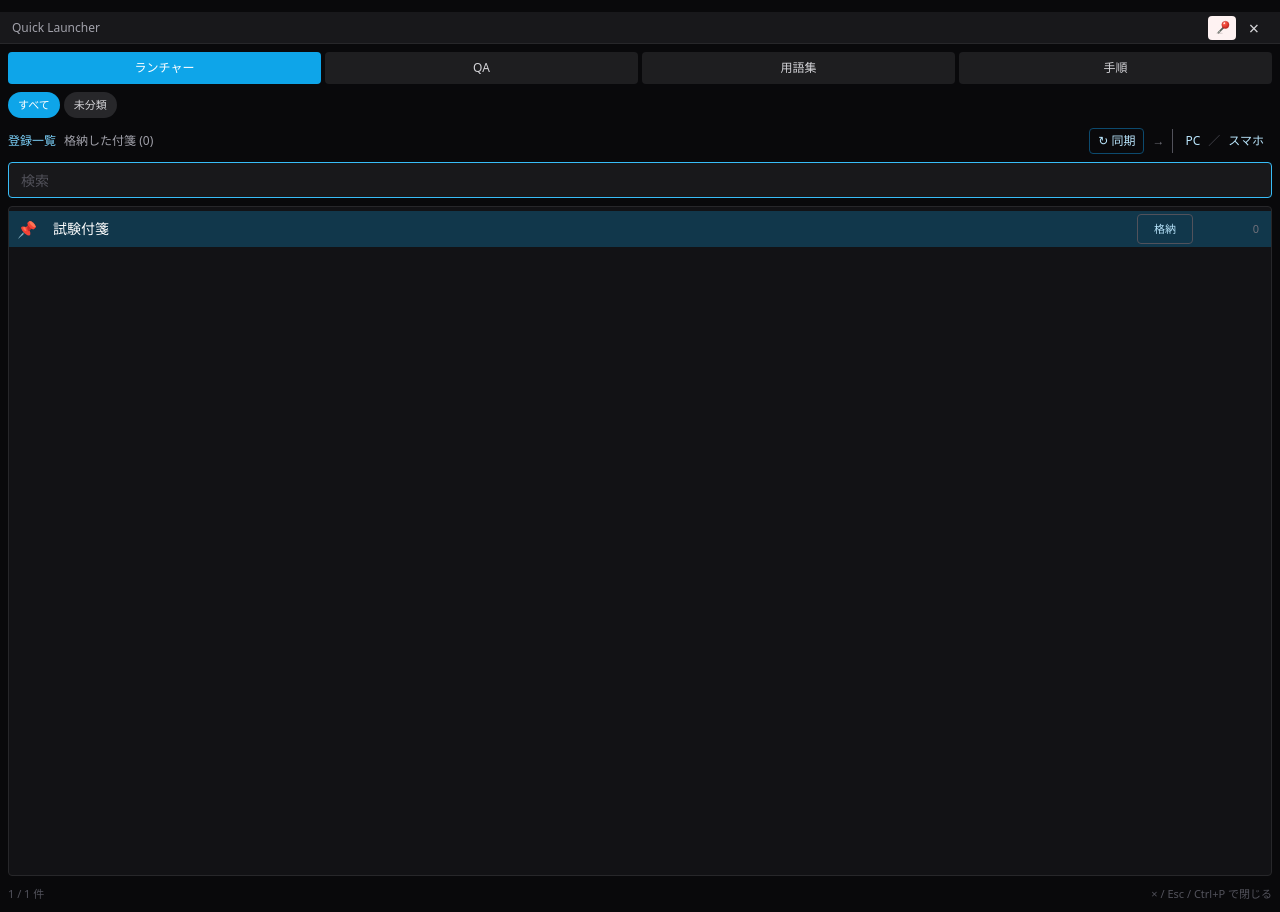
Scenario: launcher explicit close › keeps the pin state when the operating system rejects the change
Click the button named "最前面" at (1222, 28), box [1208,16,1236,40]
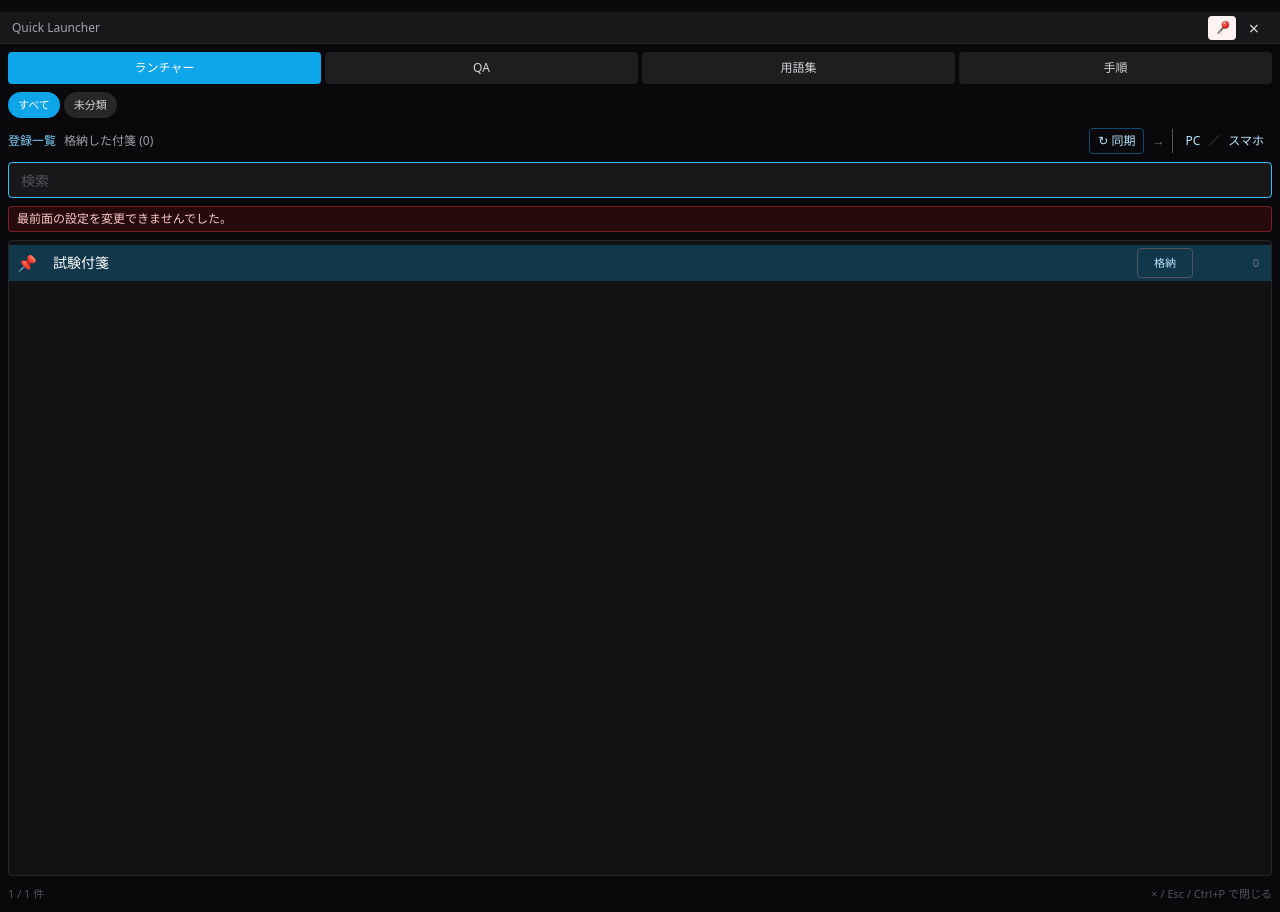
Result: the text "最前面の設定を変更できませんでした。" is shown at [8,206,1272,232]
